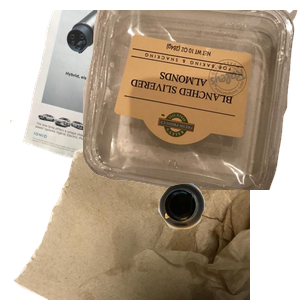glass: (156, 181, 300, 300)
paper: (20, 10, 244, 190)
plastic: (83, 10, 300, 190)
trash: (10, 120, 250, 300)
